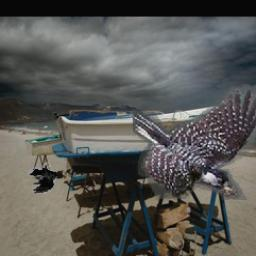Crow: (28, 163, 57, 195)
Woodpecker: (133, 84, 256, 200)
